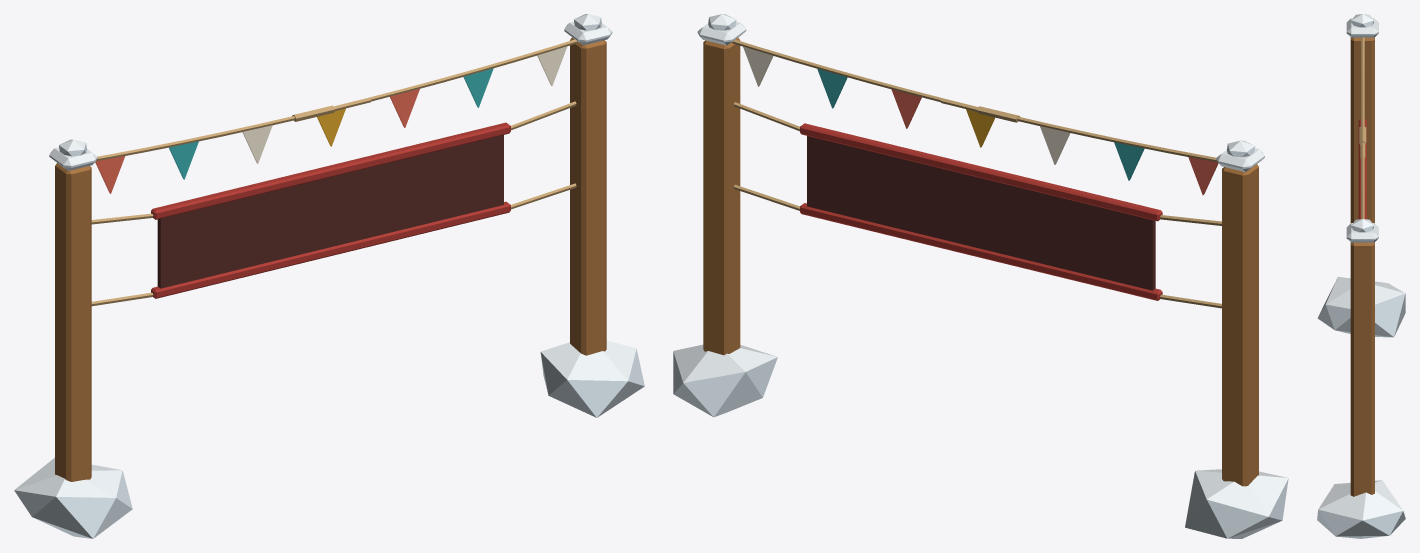
Rendered from finish_flags.glb.
3 views of the same model, side by side, from view 1: azimuth 30°, elevation 25°; view 2: azimuth 150°, elevation 25°; view 3: azimuth 270°, elevation 25° (orthographic). The views are drawn at different scales.
Parts seen in each view (by area): view 1: finish_flags, part_banner; view 2: finish_flags, part_banner; view 3: finish_flags.
Part boxes in pixels (box(x1,y1,x2,y2)): finish_flags: box(14, 14, 644, 538); part_banner: box(157, 135, 503, 288); finish_flags: box(673, 14, 1288, 538); part_banner: box(807, 136, 1155, 290); finish_flags: box(1317, 14, 1405, 538).
Bounding box in the file's own units: 3.54 × 2.2 × 0.5492.
